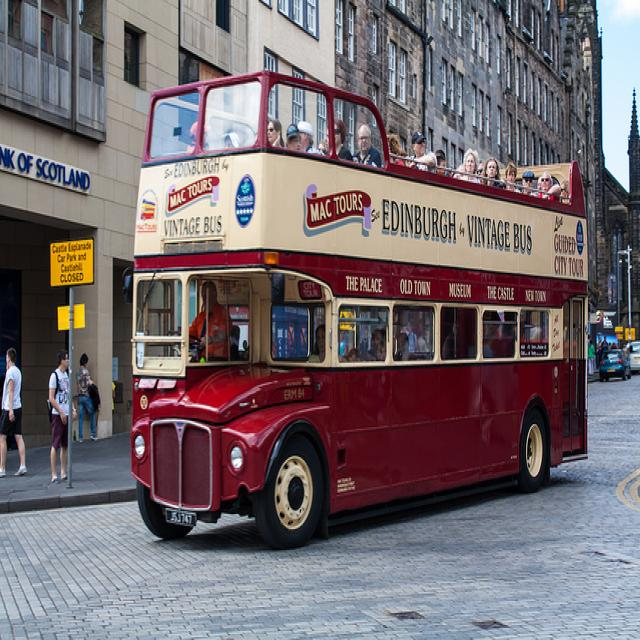Vehicle: (127, 72, 586, 548), (599, 349, 632, 382), (624, 341, 640, 370)
